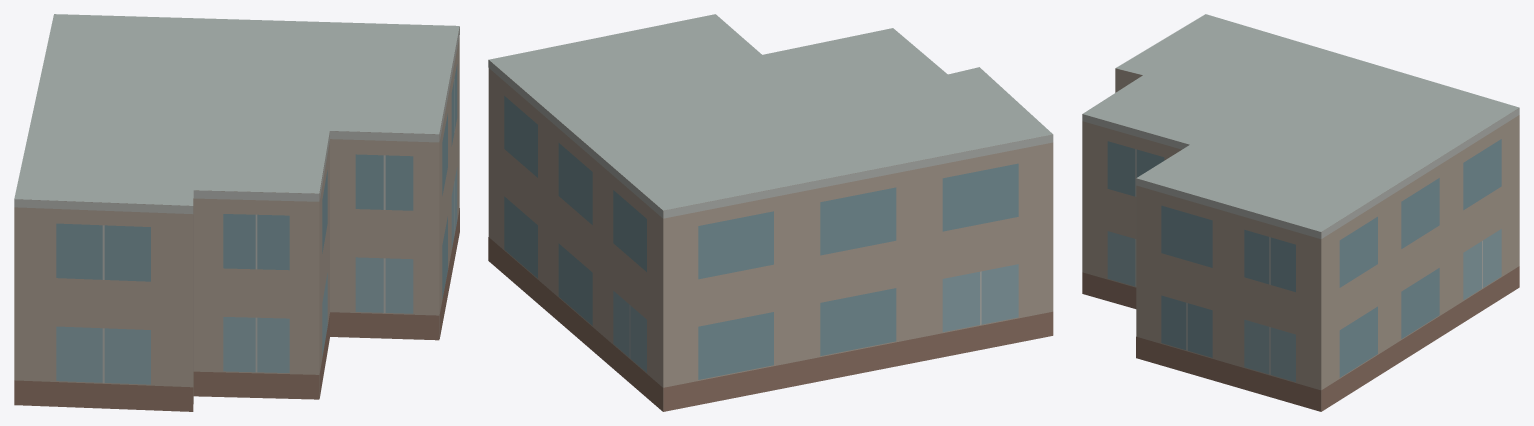
Rendered from survey-upis-32618810.glb.
3 views of the same model, side by side, from view 1: azimuth 30°, elevation 25°; view 2: azimuth 150°, elevation 25°; view 3: azimuth 270°, elevation 25° (orthographic). The views are drawn at different scales.
Visible parts, largest first — view 1: survey-upis-32618810.tmp; view 2: survey-upis-32618810.tmp; view 3: survey-upis-32618810.tmp.
Part boxes in pixels (box(x1,y1,x2,y2)): survey-upis-32618810.tmp: box(14, 14, 459, 411); survey-upis-32618810.tmp: box(488, 14, 1053, 411); survey-upis-32618810.tmp: box(1082, 14, 1519, 411).
Size of the model in its own units: 15.87 by 6.1 by 13.45.
